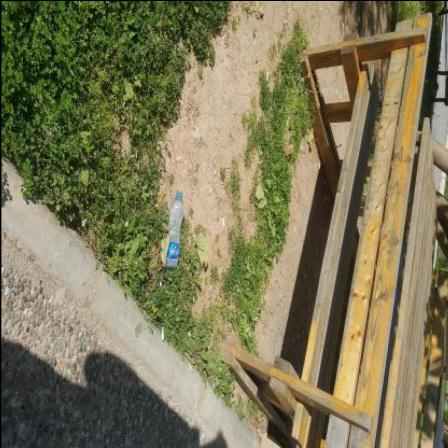Bottle: (164, 190, 183, 268)
Cigarette: (124, 220, 130, 229), (83, 218, 88, 228), (162, 328, 165, 342), (199, 187, 202, 198), (159, 278, 163, 286), (246, 422, 250, 428), (207, 344, 211, 350), (222, 217, 224, 228), (266, 72, 268, 82), (259, 160, 263, 165), (283, 20, 287, 25), (323, 180, 327, 185), (317, 247, 319, 255), (319, 162, 321, 170), (342, 21, 344, 28), (340, 94, 342, 100), (298, 334, 300, 340), (358, 18, 360, 23), (335, 90, 337, 95), (238, 393, 240, 398), (310, 260, 311, 268), (257, 430, 260, 432), (320, 232, 322, 234)
Unlabeled litter: (287, 121, 289, 126)
